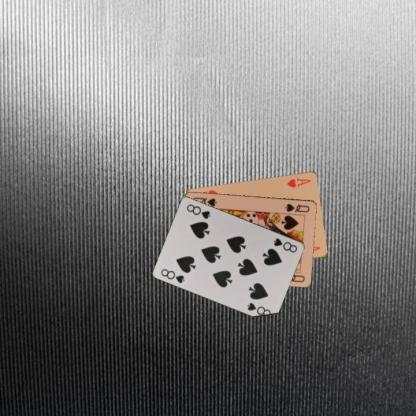8s: (271, 235, 299, 254), (158, 266, 186, 284)
Ah: (284, 175, 312, 188)
Qs: (282, 201, 311, 213)
